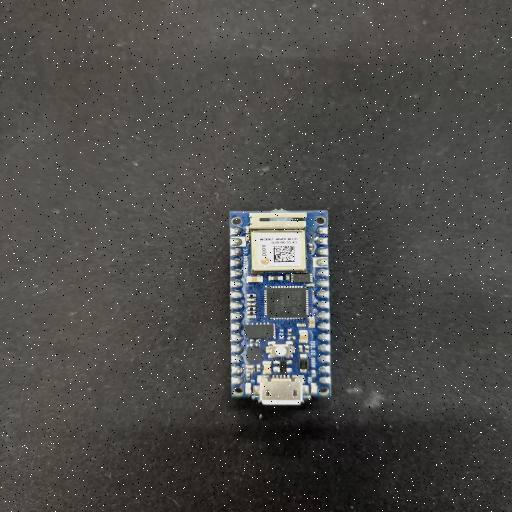arduino-nano-iot-33: (231, 209, 330, 401)
